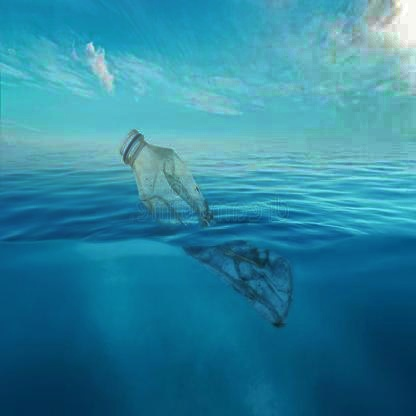pbottle: (110, 120, 298, 332)
